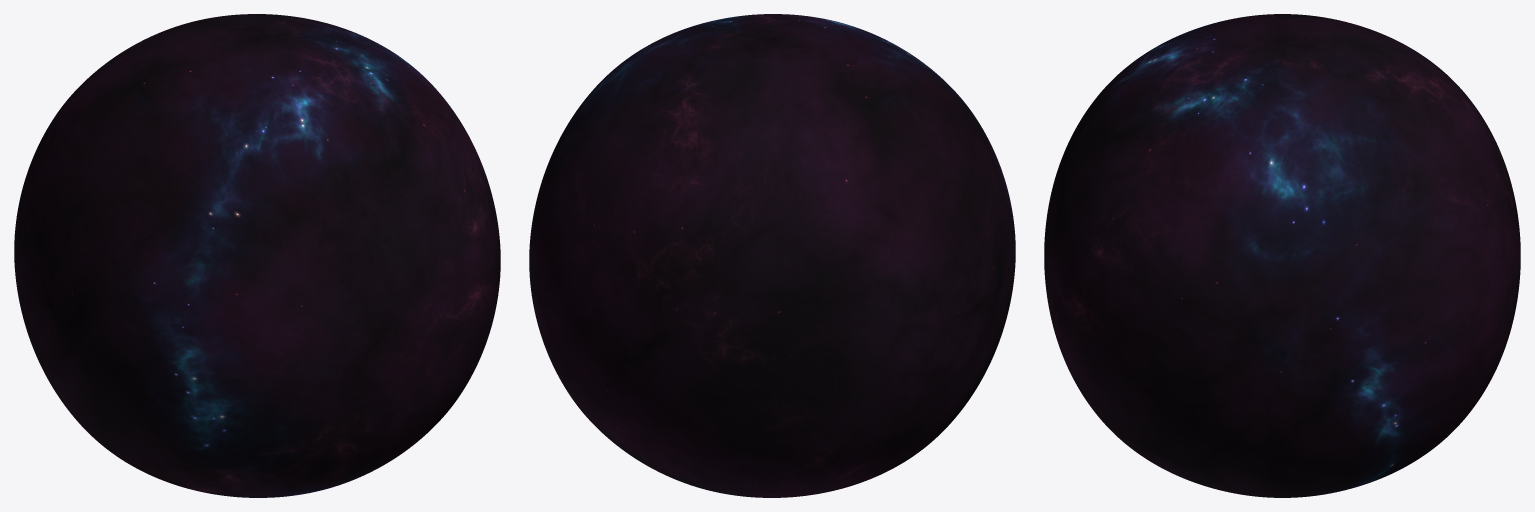
Rendered from SpinSpaceBall.fbx.
3 views of the same model, side by side, from view 1: azimuth 30°, elevation 25°; view 2: azimuth 150°, elevation 25°; view 3: azimuth 270°, elevation 25° (orthographic).
Parts seen in each view (by area): view 1: SpinSpace; view 2: SpinSpace; view 3: SpinSpace.
Boxes of the visible parts, x1,y1,x2,y2 form: SpinSpace: (14, 14, 500, 497); SpinSpace: (529, 14, 1015, 497); SpinSpace: (1044, 14, 1520, 497).
Size of the model in its own units: 85965 by 85965 by 85965.
6 materials, 6 textured.
